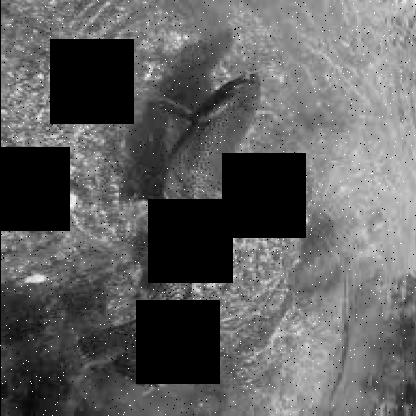fish: (84, 72, 264, 388)
